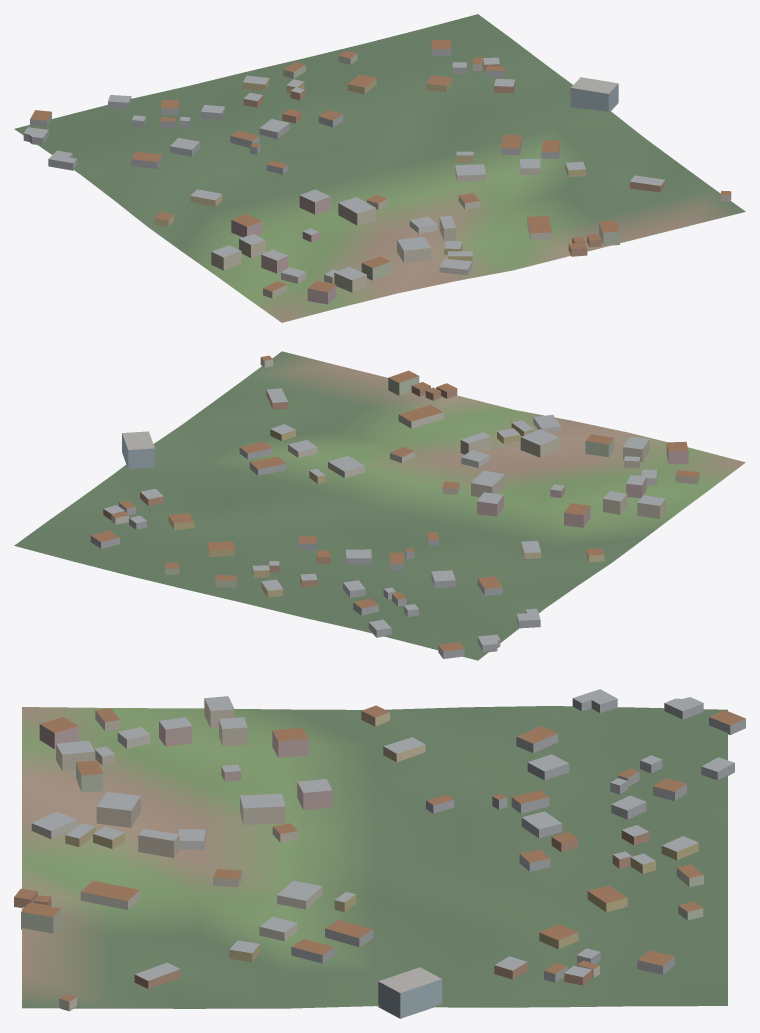
The picture shows the model from 3 angles, top to bottom: view 1: azimuth 30°, elevation 25°; view 2: azimuth 150°, elevation 25°; view 3: azimuth 270°, elevation 25°; orthographic projection. The views are drawn at different scales.
Visible parts, largest first — view 1: Lo; view 2: Lo; view 3: Lo.
Boxes of the visible parts, x1,y1,x2,y2 form: Lo: (14, 14, 745, 322); Lo: (14, 351, 745, 660); Lo: (14, 689, 745, 1018).
Bounding box in the file's own units: 273 × 11.6 × 265.
